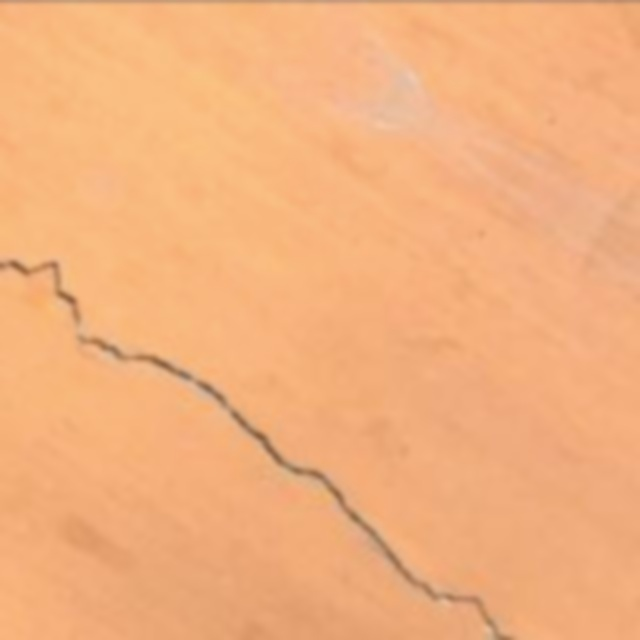SurfaceCrack: (2, 234, 538, 640)
